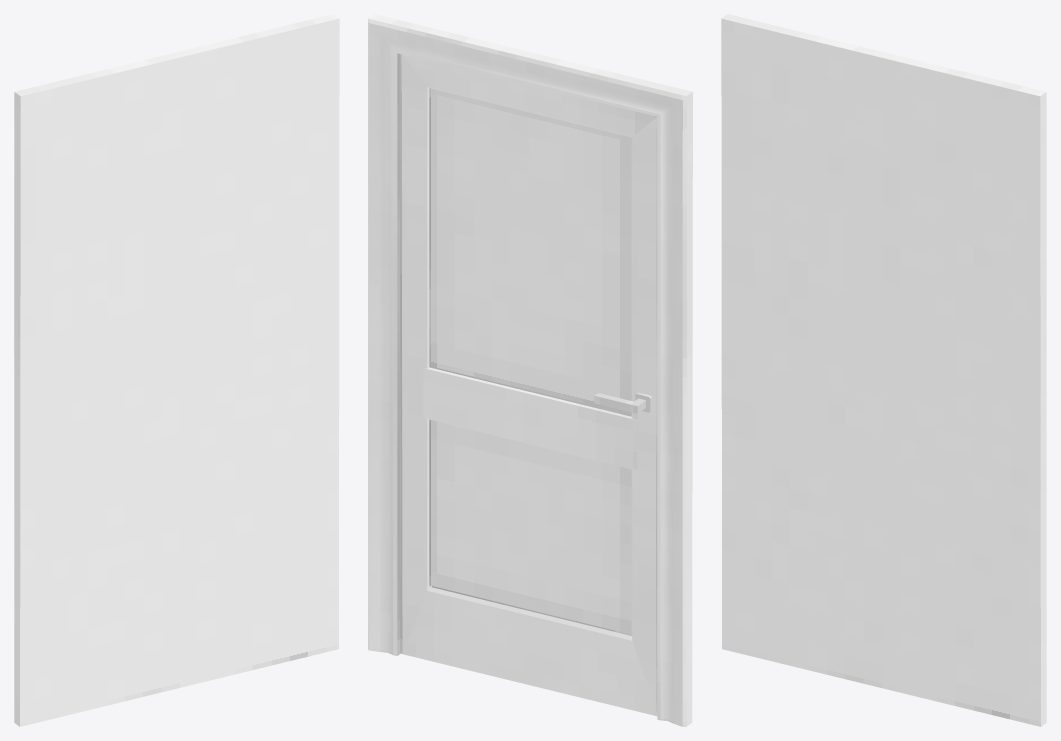
Rendered from DoorTwoPanelSnapToWall.glb.
3 renders of one model, left to right at view 1: azimuth 30°, elevation 25°; view 2: azimuth 150°, elevation 25°; view 3: azimuth 330°, elevation 25°, orthographic.
Parts seen in each view (by area): view 1: DoorTwoPanelSnapToWall; view 2: DoorTwoPanelSnapToWall; view 3: DoorTwoPanelSnapToWall.
Part boxes in pixels (x1,y1,x2,y2): DoorTwoPanelSnapToWall: [14, 14, 339, 726]; DoorTwoPanelSnapToWall: [368, 14, 692, 726]; DoorTwoPanelSnapToWall: [721, 14, 1046, 726].
Size of the model in its own units: 1.12 by 2.13 by 0.0835.
1 material, 1 textured.
